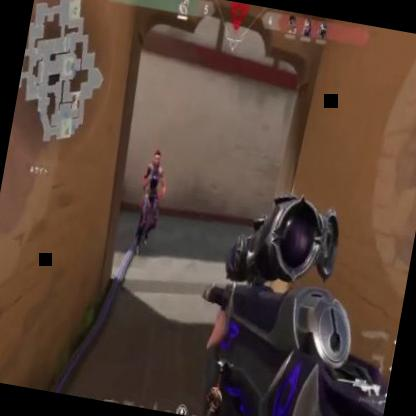enemy: (129, 146, 173, 258)
enemy_head: (150, 146, 164, 170)
